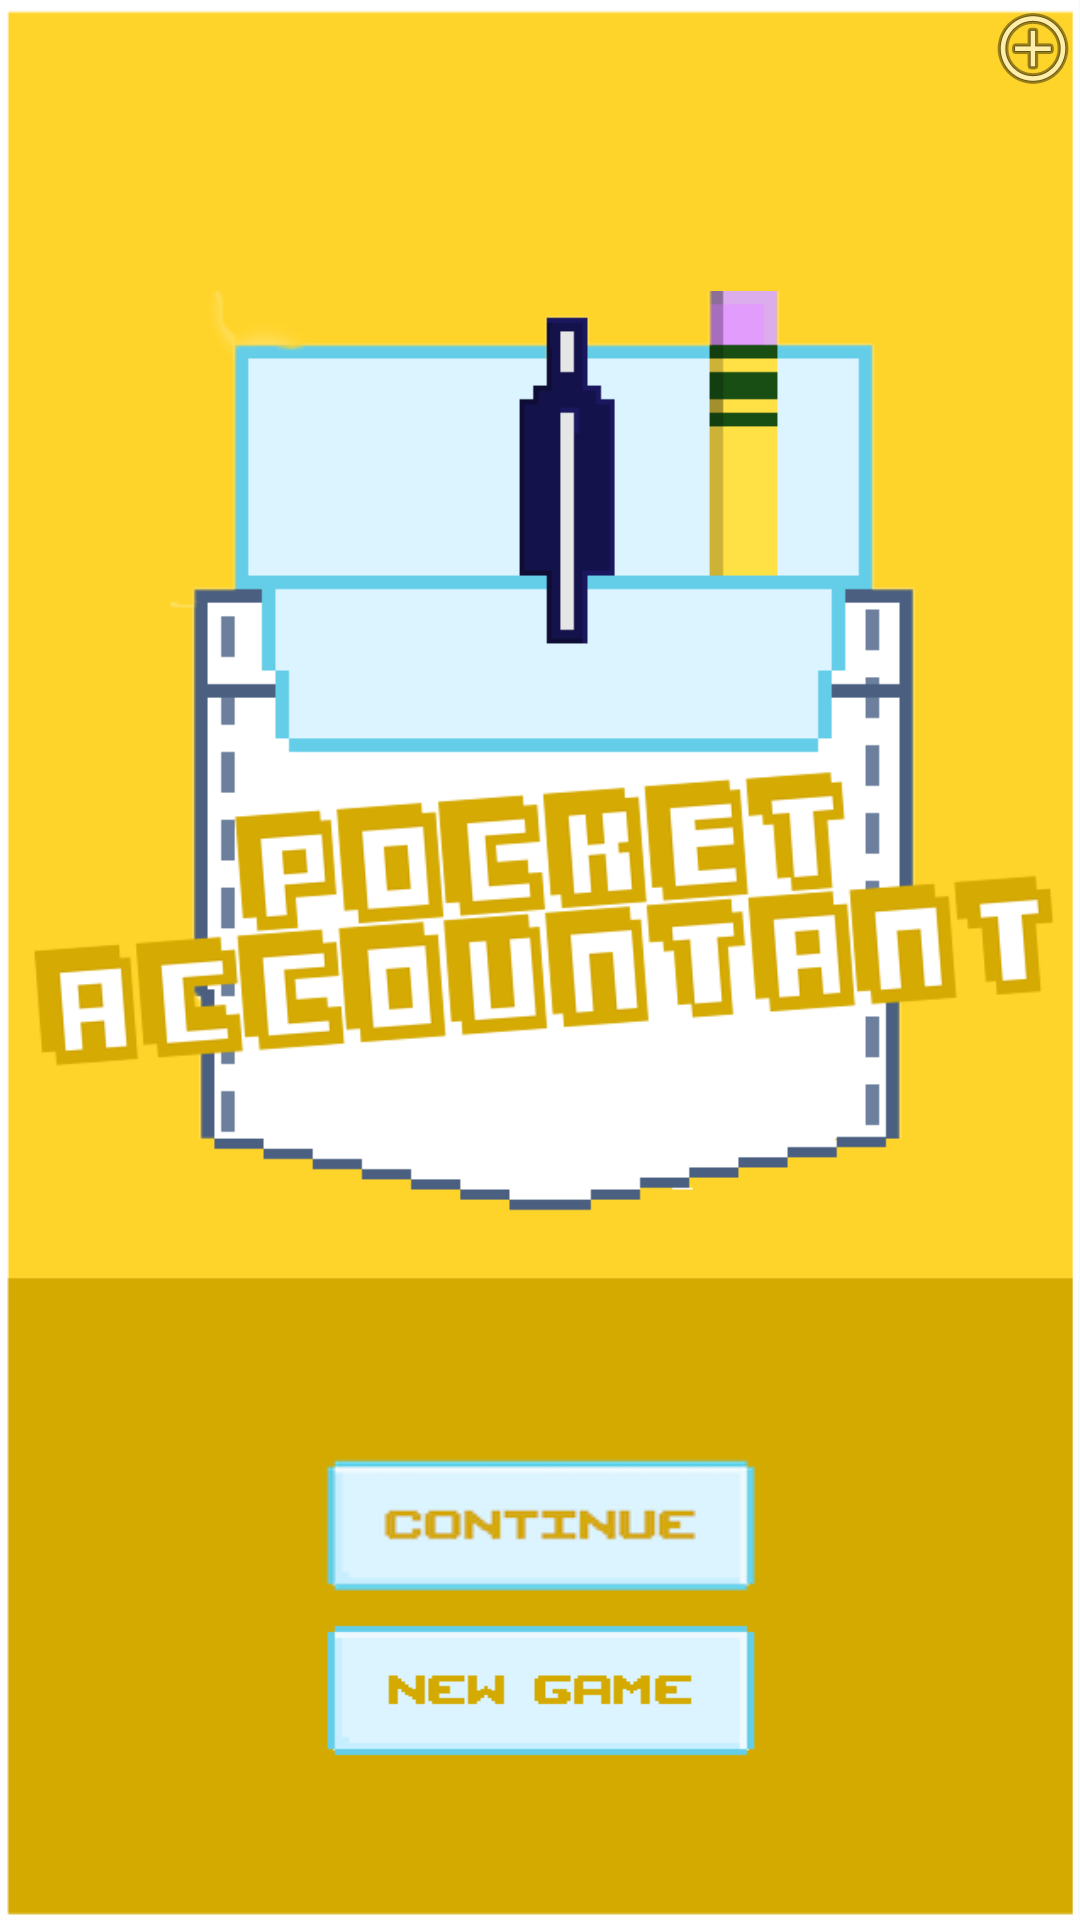

Where icons sit on this 1080 x 1920 app screen, as (x1, y1, x2, y2):
add: (985, 0, 1080, 96)
